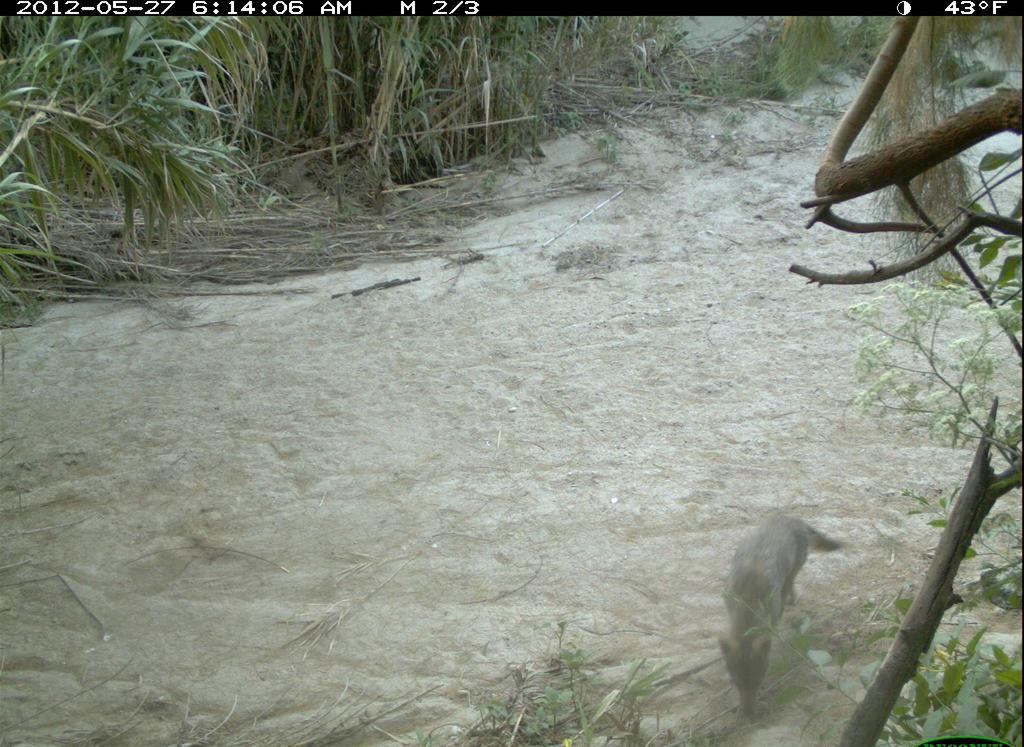coyote: (716, 500, 848, 720)
